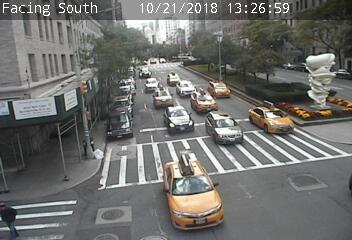car: (163, 159, 221, 231), (249, 102, 294, 134), (206, 112, 241, 144), (165, 106, 192, 132), (191, 90, 217, 112), (153, 87, 173, 107), (208, 80, 229, 98), (176, 80, 196, 97), (144, 78, 158, 92), (167, 73, 181, 86), (139, 67, 150, 78)
